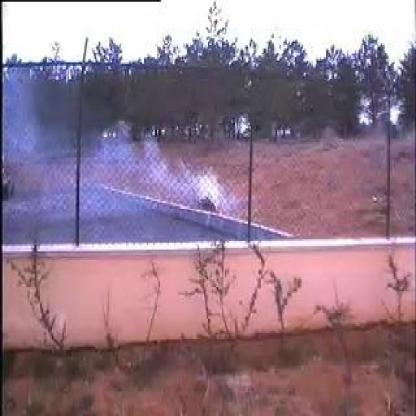-: (30, 87, 220, 206)
